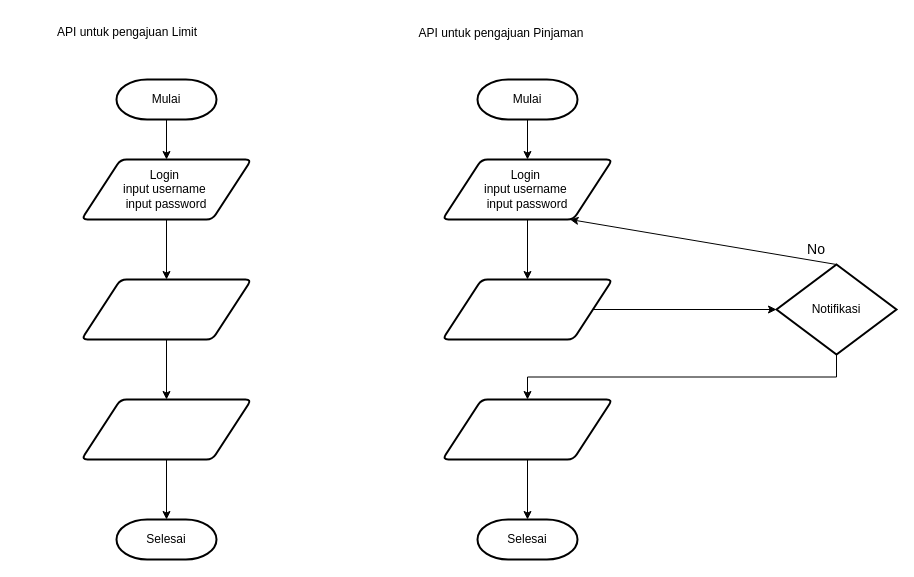
Some shapes in this 914 by 577 pixel diagram are drawn without their labels. The box of each missing label's shape, as (x1, y1, x2, y2) in pixels:
Dana Cair: (441, 398, 613, 460)
Output : Limit: (80, 398, 252, 460)
Pengajuan Limit Input data user: (80, 278, 252, 340)
Pengajuan Pinjaman Input data pinjaman: (441, 278, 613, 340)
